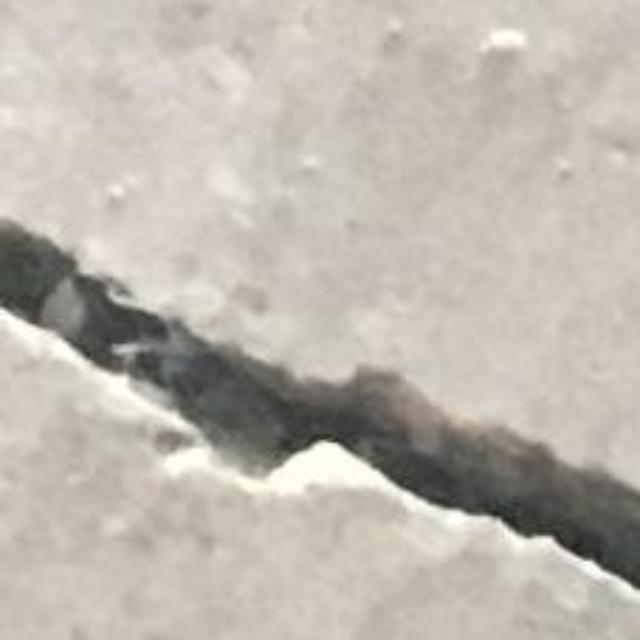crack: (0, 220, 639, 592)
